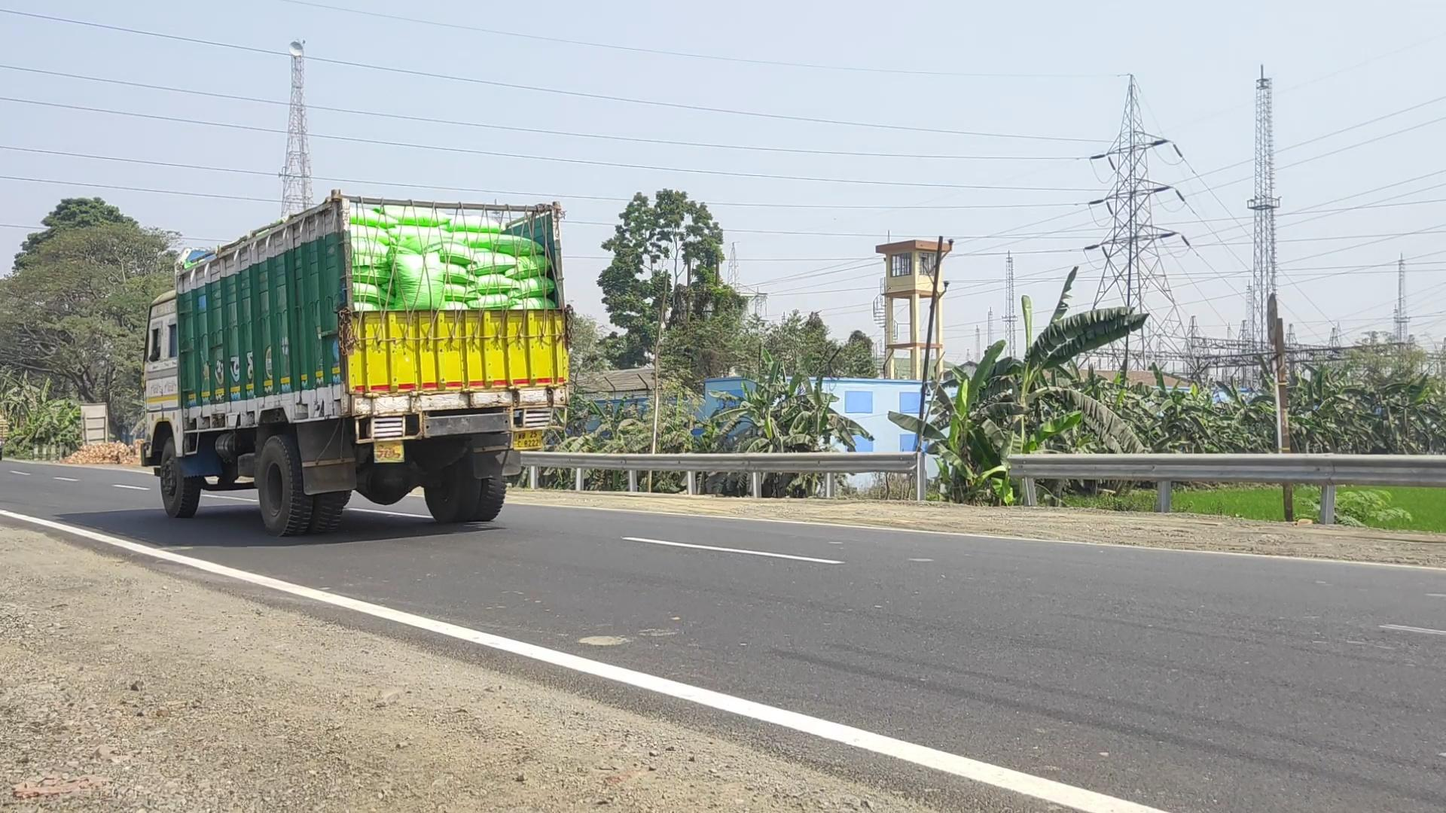truck: (138, 188, 571, 537)
